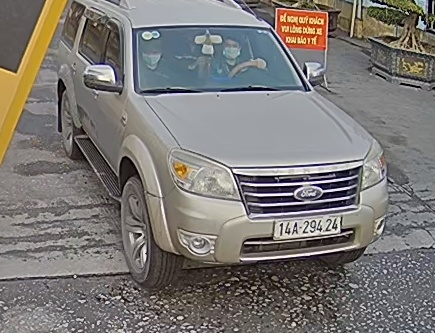vehicle plate: (273, 211, 345, 240)
